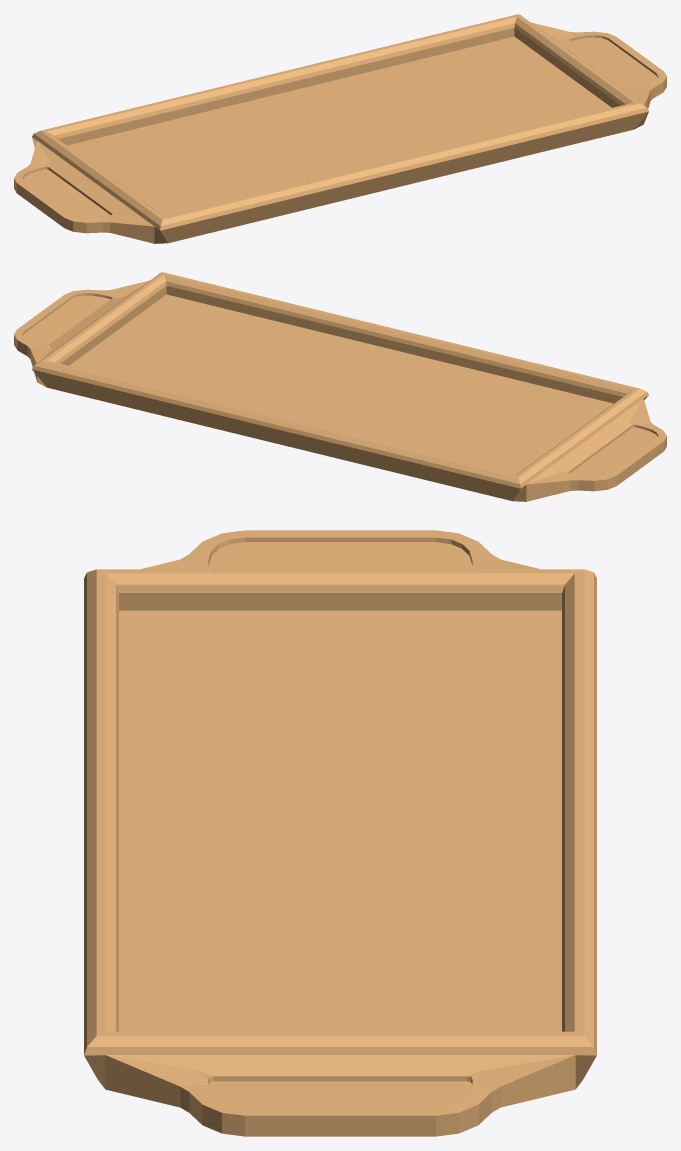
Rendered from talca.fbx.
3 renders of one model, top to bottom at view 1: azimuth 30°, elevation 25°; view 2: azimuth 150°, elevation 25°; view 3: azimuth 270°, elevation 25°, orthographic. The views are drawn at different scales.
Parts seen in each view (by area): view 1: Cube; view 2: Cube; view 3: Cube.
Boxes of the visible parts, <box> form: Cube: <box>14,14,666,243</box>; Cube: <box>14,272,666,501</box>; Cube: <box>84,530,596,1136</box>.
Bounding box in the file's own units: 34.04 × 1.36 × 12.61.
